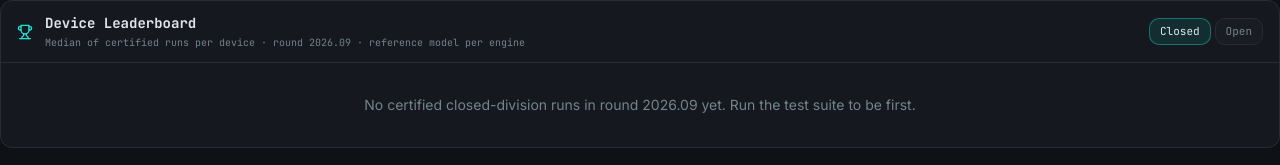
Test case: Leaderboard states › switches to the open division on tab click
Expected: the text "No certified closed-division runs" is shown, left=364, top=96, right=916, bottom=113
Click the tab "open" at (1239, 32), box left=1215, top=18, right=1263, bottom=45
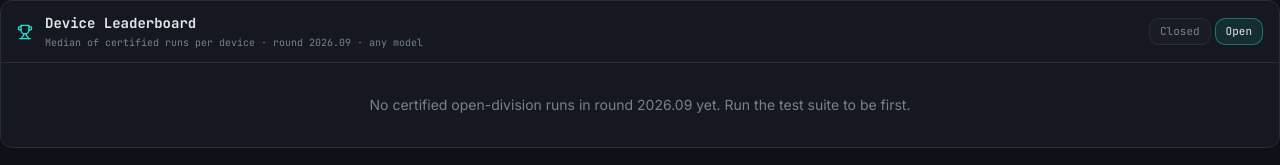
Expected: the text "No certified open-division runs" is shown, left=370, top=96, right=910, bottom=113
